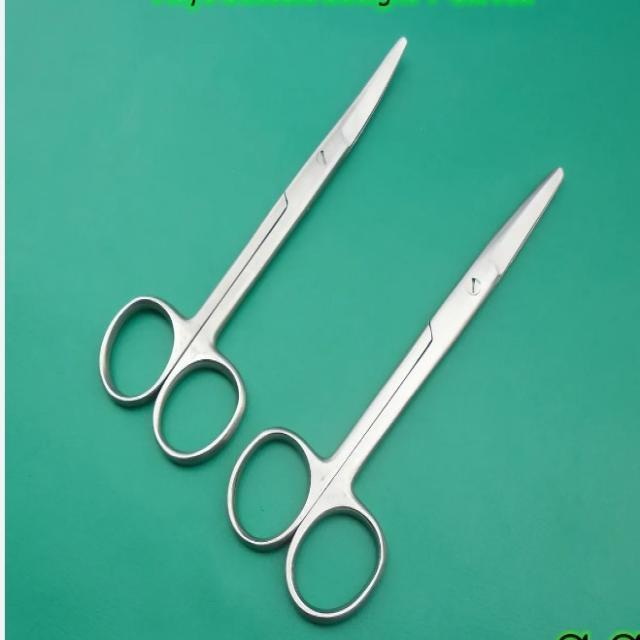Straight Mayo: (232, 163, 584, 610)
